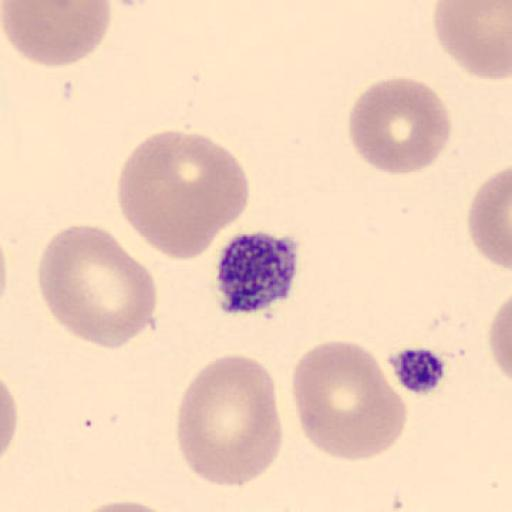Platelet: (214, 228, 302, 318), (386, 344, 449, 396)
RBC: (115, 128, 251, 263), (35, 222, 158, 352), (176, 352, 284, 490), (290, 338, 408, 462), (346, 74, 452, 178), (1, 0, 113, 69), (432, 0, 512, 82), (468, 164, 512, 270), (488, 291, 512, 387), (1, 375, 19, 461), (70, 499, 178, 512)
